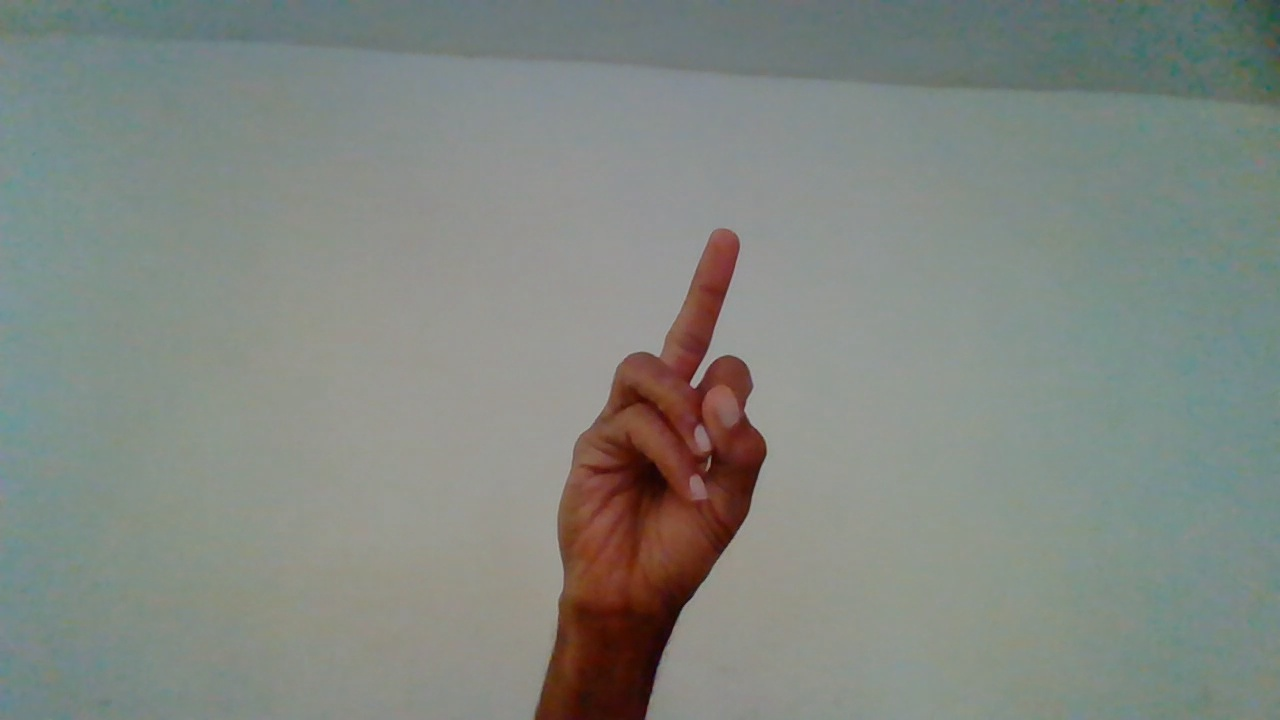he: (552, 232, 778, 693)
